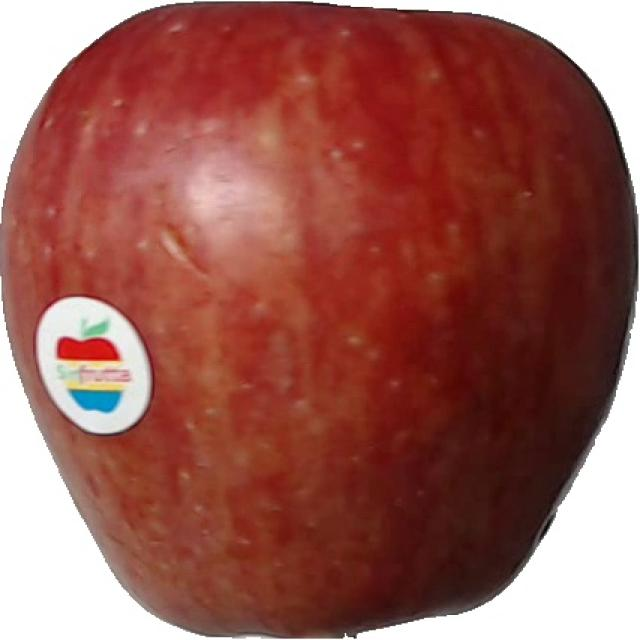apple: (0, 1, 640, 640)
